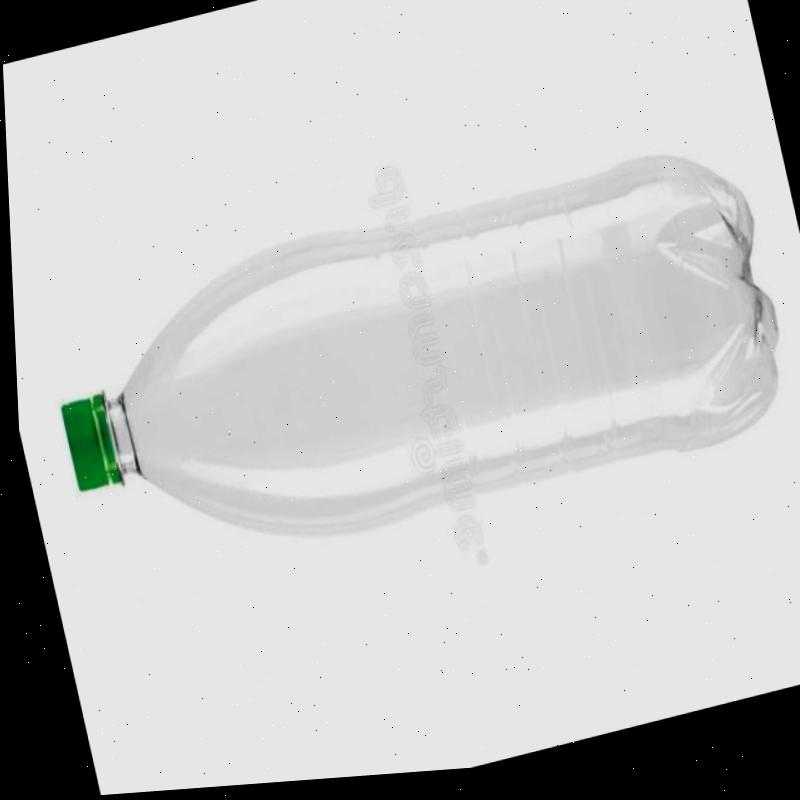botella: (32, 144, 797, 605)
